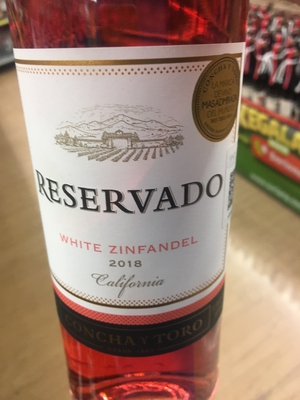reservado white zinfandel: (10, 1, 248, 400)
